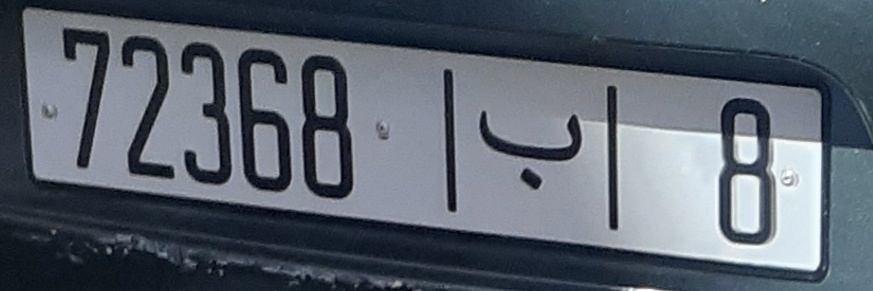2: (117, 33, 174, 182)
3: (176, 37, 229, 191)
6: (237, 41, 292, 196)
7: (53, 24, 107, 174)
8: (703, 89, 788, 253), (299, 51, 359, 202)
b: (475, 79, 591, 203)
